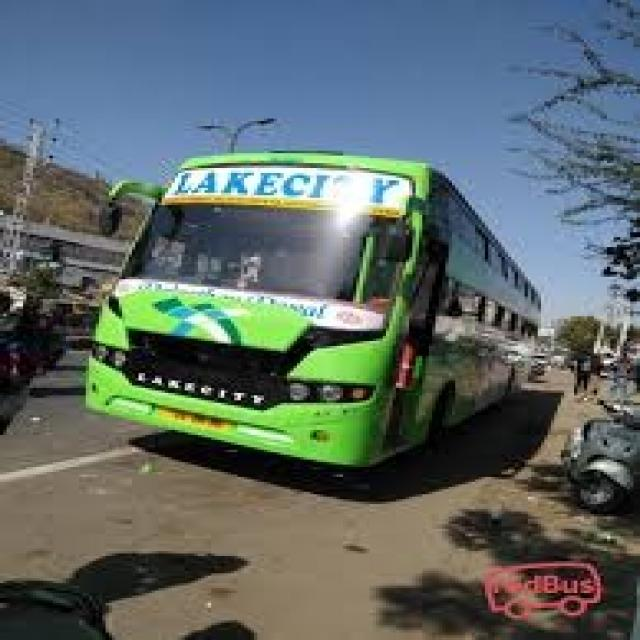bus: (62, 139, 554, 506)
